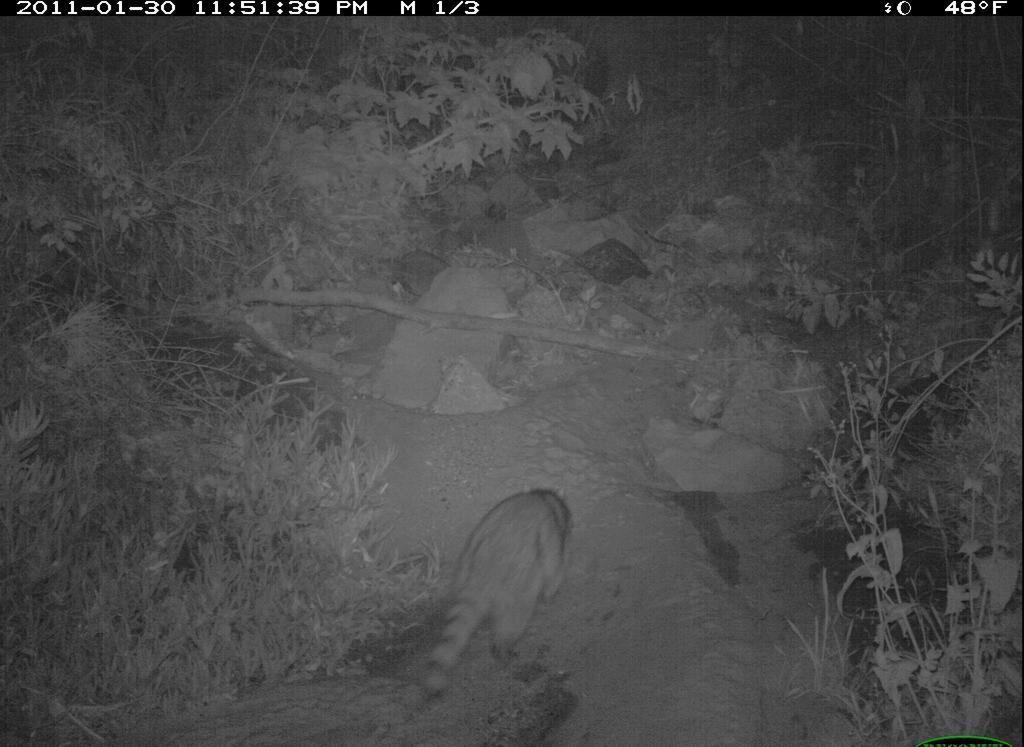raccoon: (387, 495, 593, 699)
